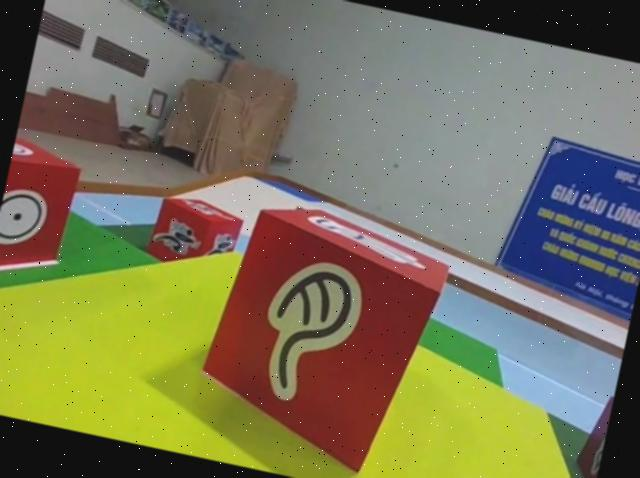R1: (141, 186, 247, 281)
R2 Fake: (184, 189, 456, 478)
R2 Real: (0, 134, 88, 302), (558, 385, 614, 478)
